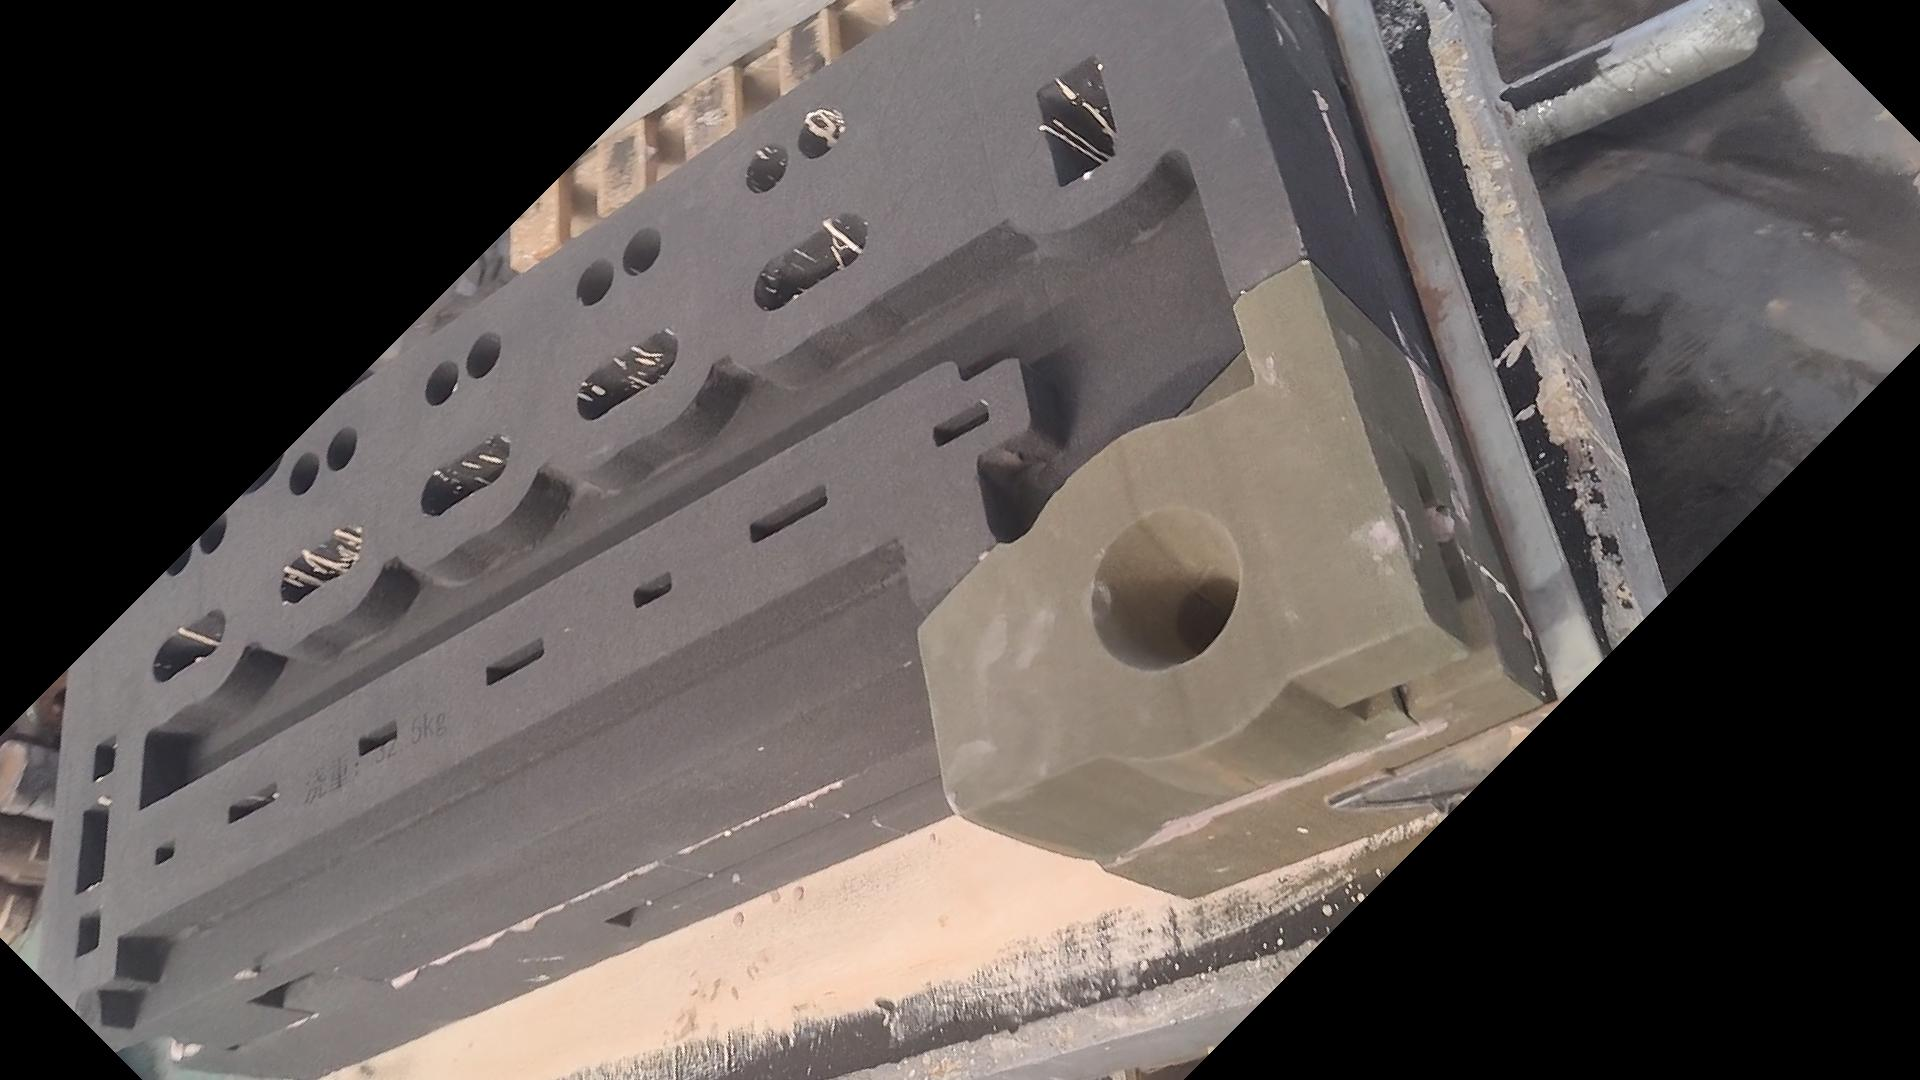pouring hole: (1088, 506, 1240, 676)
